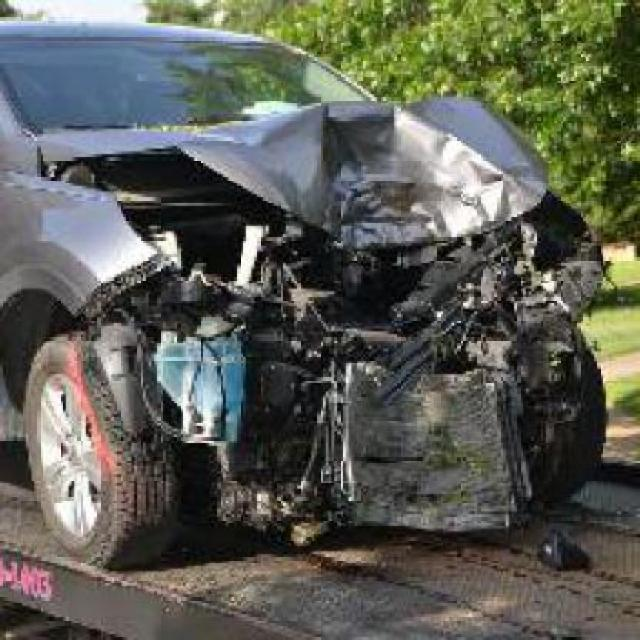damaged-front-bumper: (146, 354, 600, 512)
damaged-hood: (36, 88, 582, 247)
